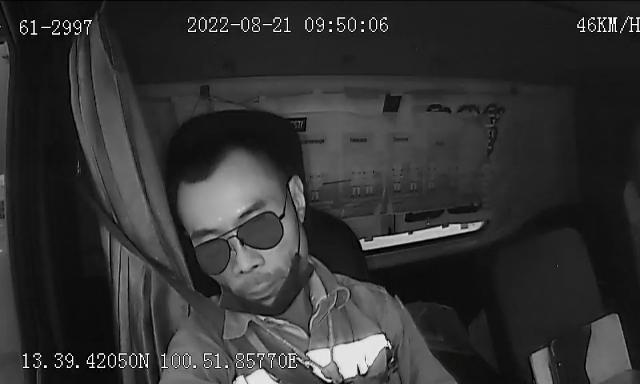SafeDriving: (416, 95, 460, 119)
Seatbelt: (91, 200, 327, 384)
